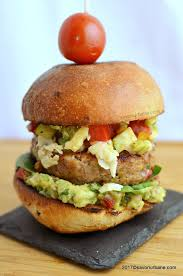hamburger: (12, 56, 169, 231)
